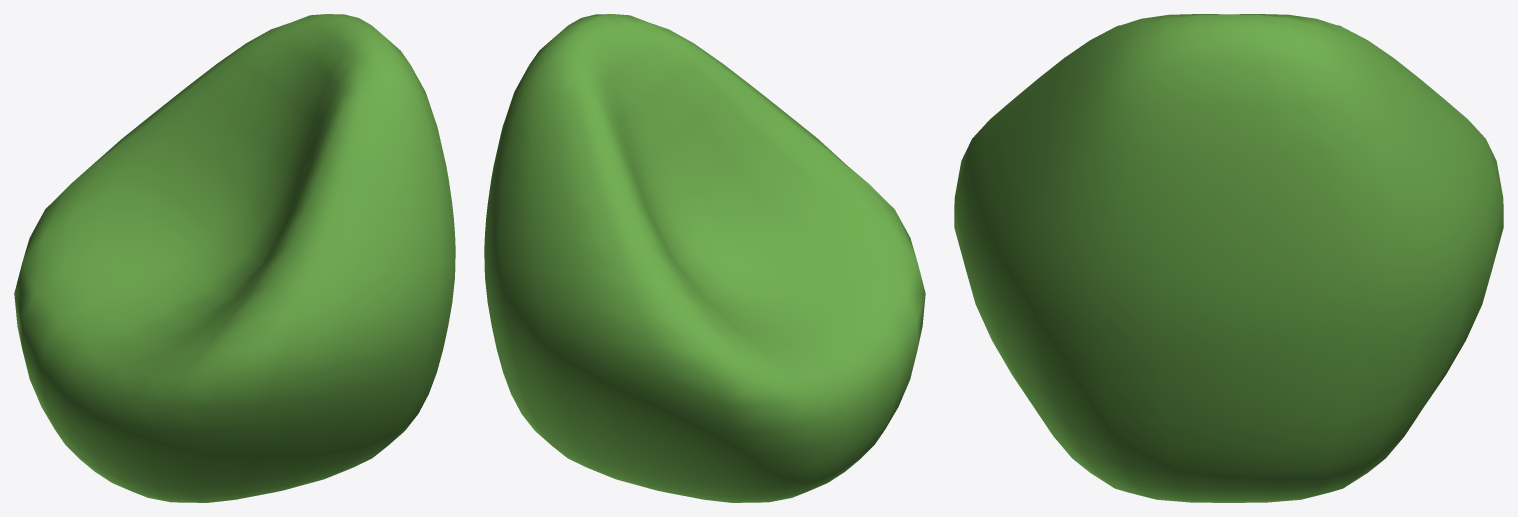
Rendered from beanbag_02_green.fbx.
3 renders of one model, left to right at view 1: azimuth 30°, elevation 25°; view 2: azimuth 150°, elevation 25°; view 3: azimuth 270°, elevation 25°, orthographic. The views are drawn at different scales.
Parts seen in each view (by area): view 1: beanbag_02_green; view 2: beanbag_02_green; view 3: beanbag_02_green.
Boxes of the visible parts, x1,y1,x2,y2 form: beanbag_02_green: (14,14,455,502); beanbag_02_green: (484,14,925,502); beanbag_02_green: (954,14,1503,502).
Bounding box in the file's own units: 87.11 × 97.36 × 93.71.
1 material, 1 textured.
